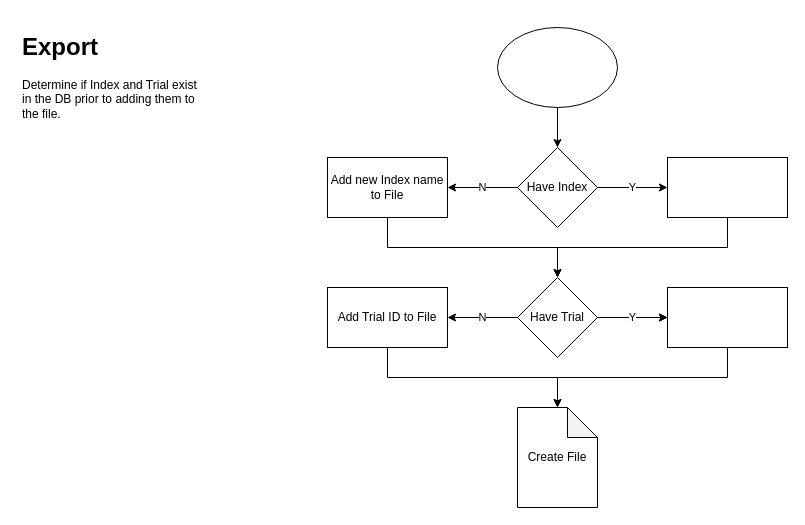
This 805x525 diagram has some shape labels left out. The shapes that lost their labels are listed below. From the top down, each one's box as (x1, y1, x2, y2) in pixels, then its label:
(496, 26, 618, 108): Export Trial
(666, 156, 788, 218): Add Index to File
(666, 286, 788, 348): Add Trial to File
